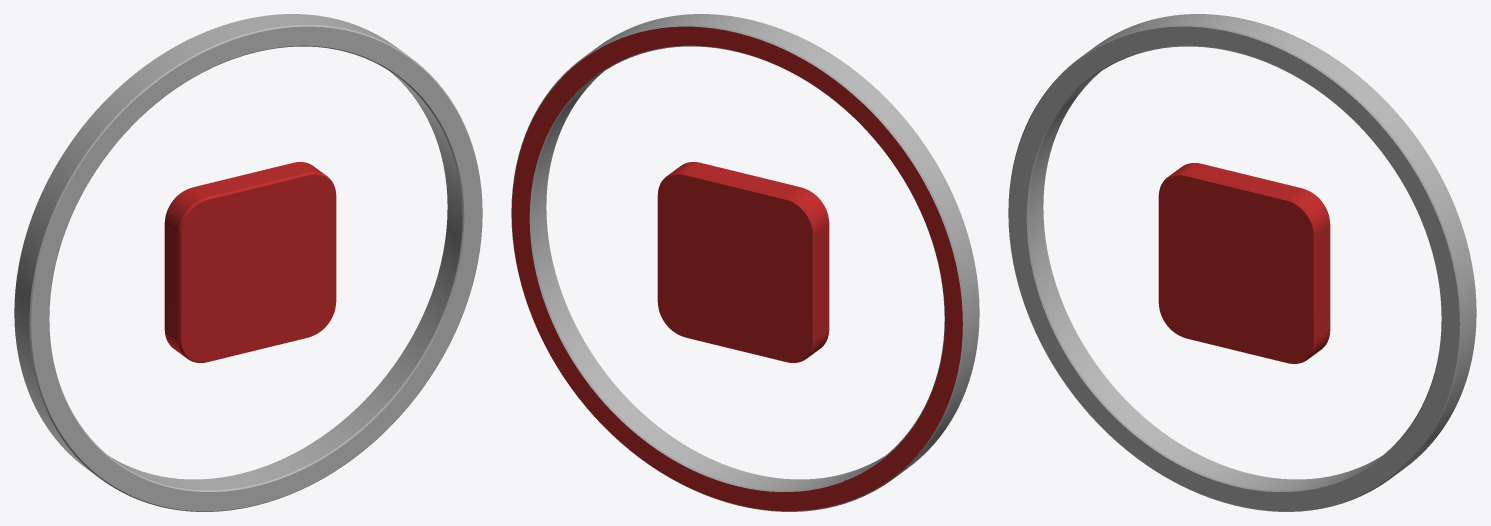
File: TimelineElement_StopRecord.dae
3 views of the same model, side by side, from view 1: azimuth 30°, elevation 25°; view 2: azimuth 150°, elevation 25°; view 3: azimuth 330°, elevation 25° (orthographic).
Visible parts, largest first — view 1: stop_record_2x; view 2: stop_record_2x; view 3: stop_record_2x.
Boxes of the visible parts, x1,y1,x2,y2 form: stop_record_2x: (14,14,482,511); stop_record_2x: (511,14,979,511); stop_record_2x: (1008,14,1476,511).
Size of the model in its own units: 0.8043 by 0.05 by 0.8043.
